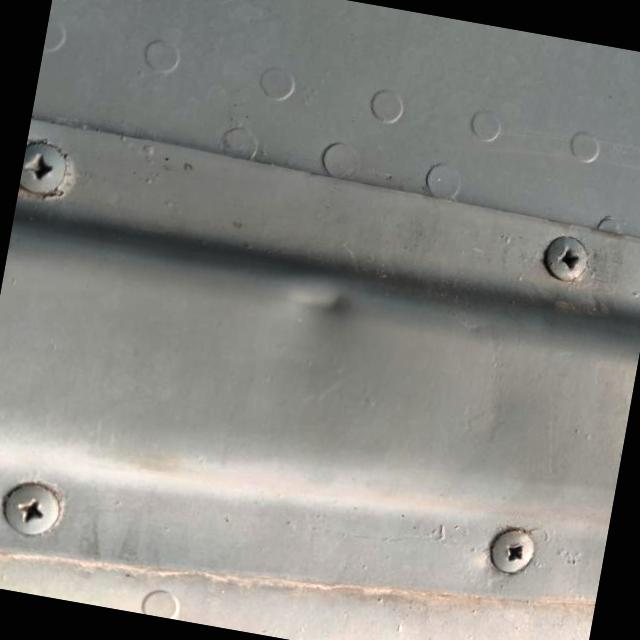dent: (276, 254, 374, 348)
